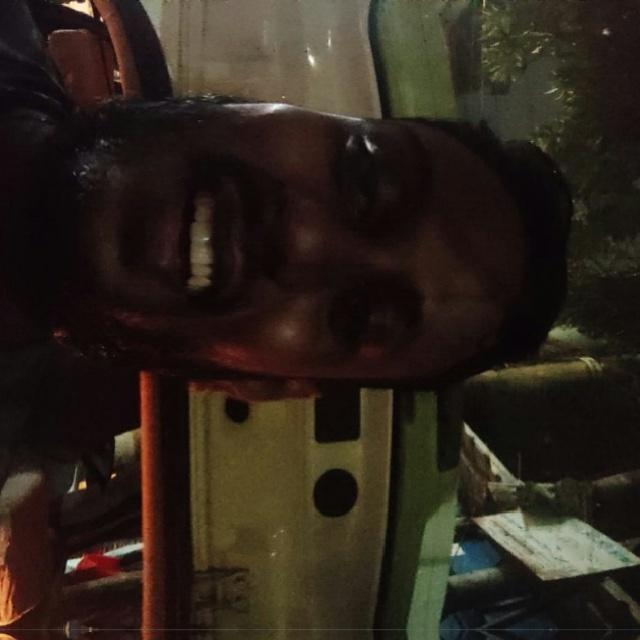Happy: (83, 80, 562, 408)
